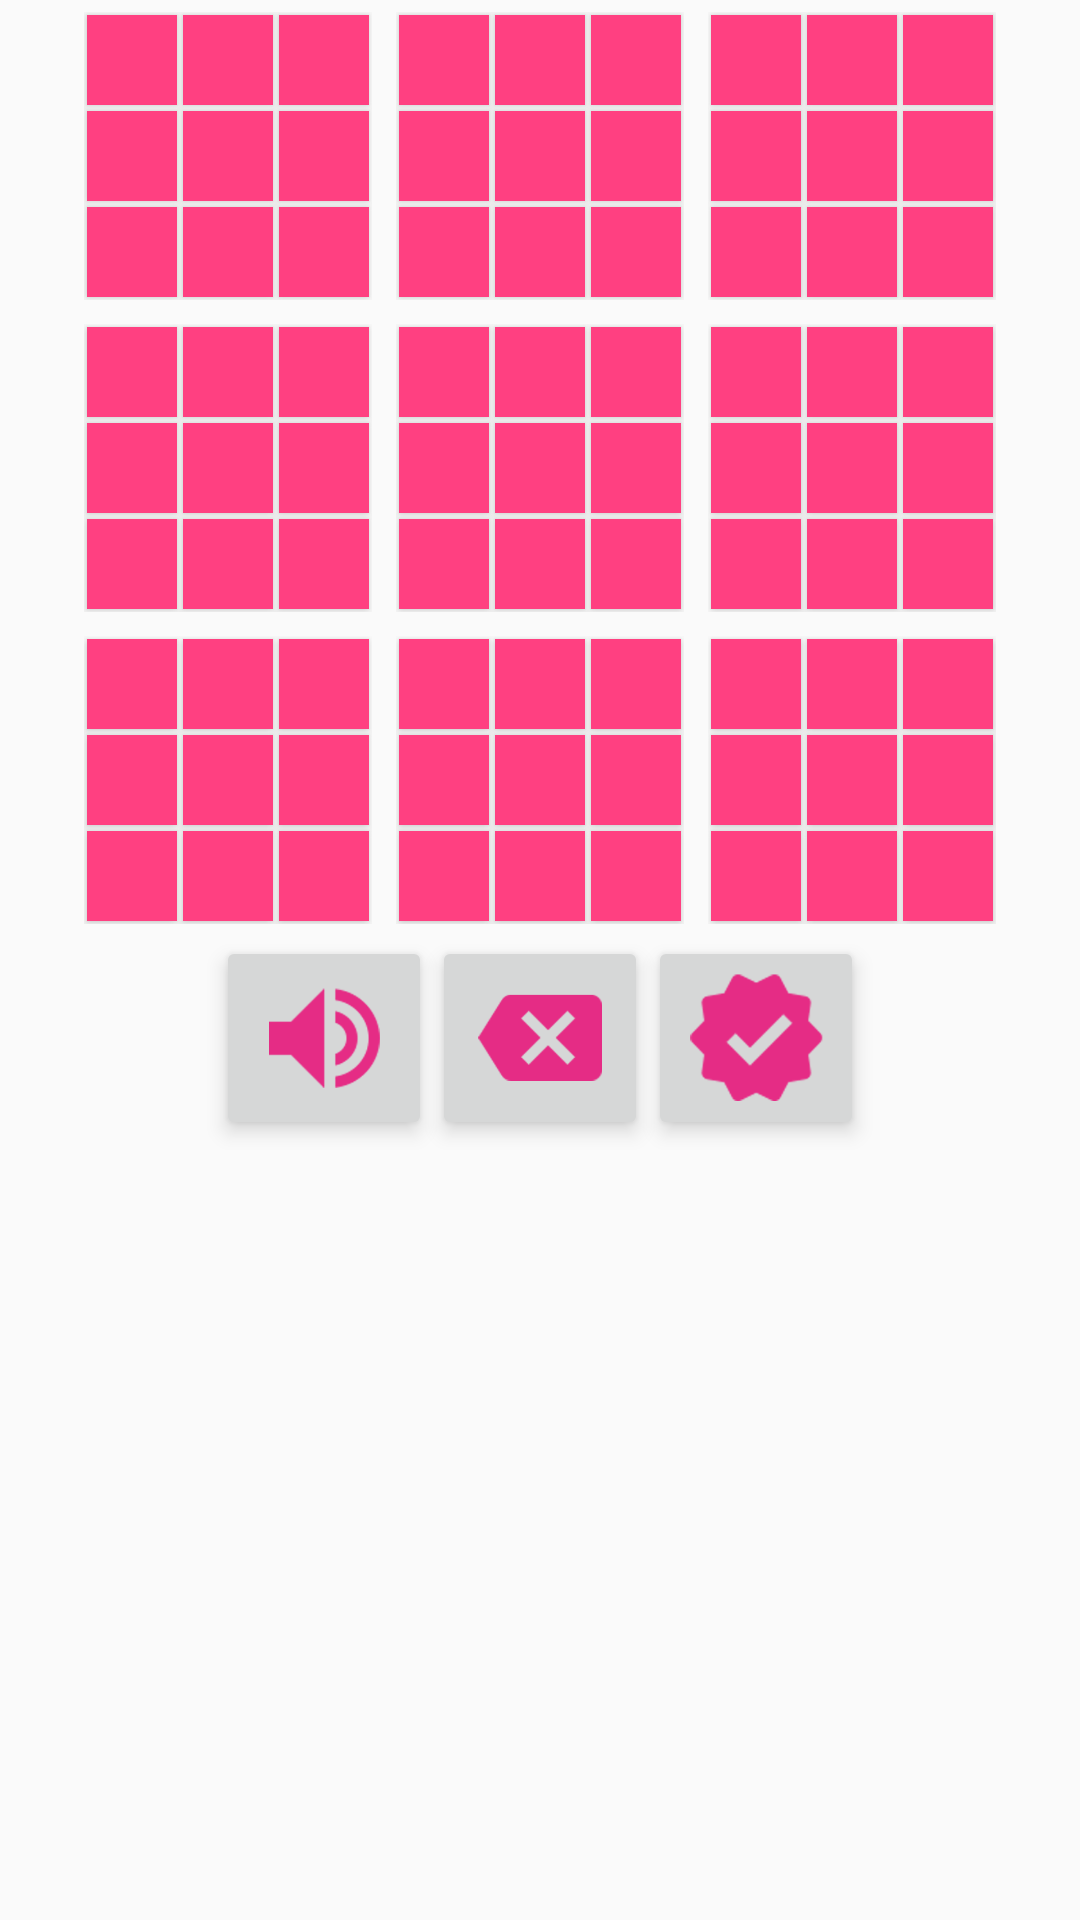

Screen size 1080x1920. Icon name, then its center in pixels as [x,y]:
Clear: [540,1039]
Submit: [756,1039]
Volume On: [324,1039]
